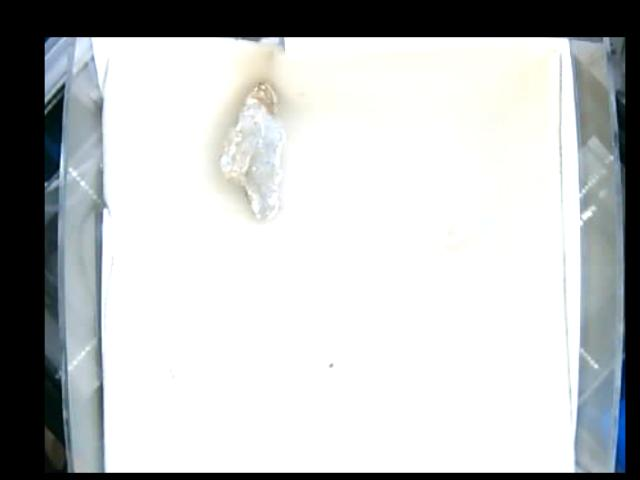Brisk: (218, 82, 281, 221)
